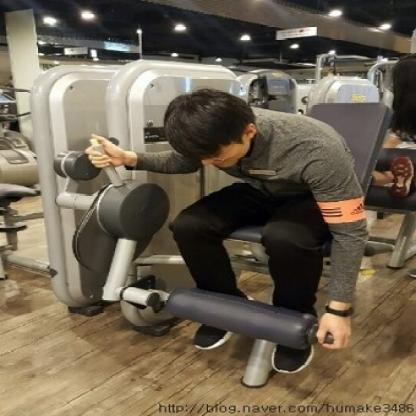leg extension: (5, 41, 416, 390)
